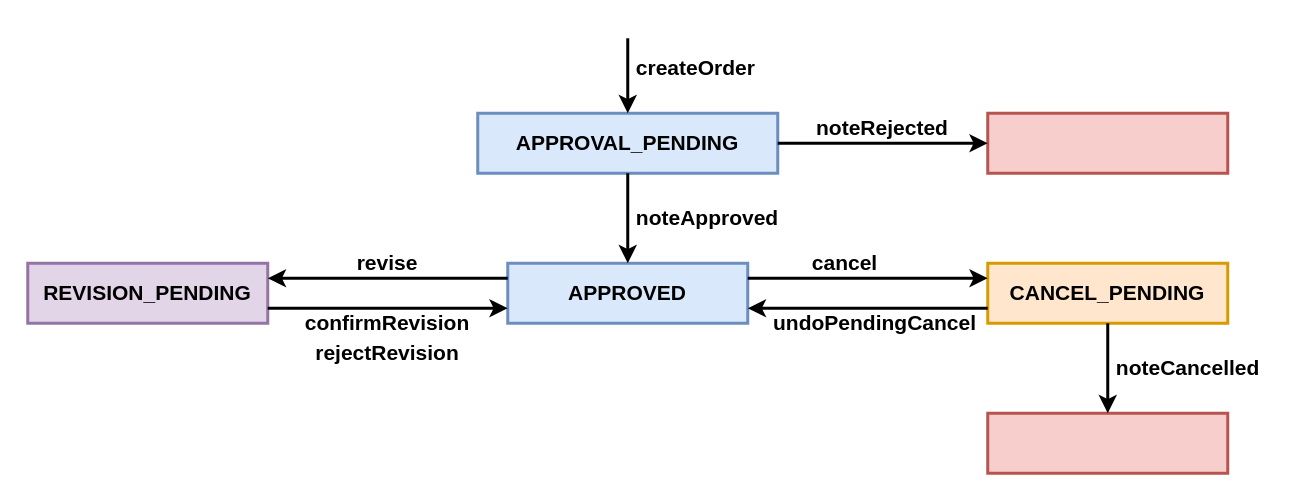
Image size: 1313x500. Some labels were removed from this diagram. Here are the shapes that lost their labels. From the top down, the box of each, then its label:
(986, 111, 1228, 174): REJECTED
(986, 411, 1228, 474): CANCELLED
